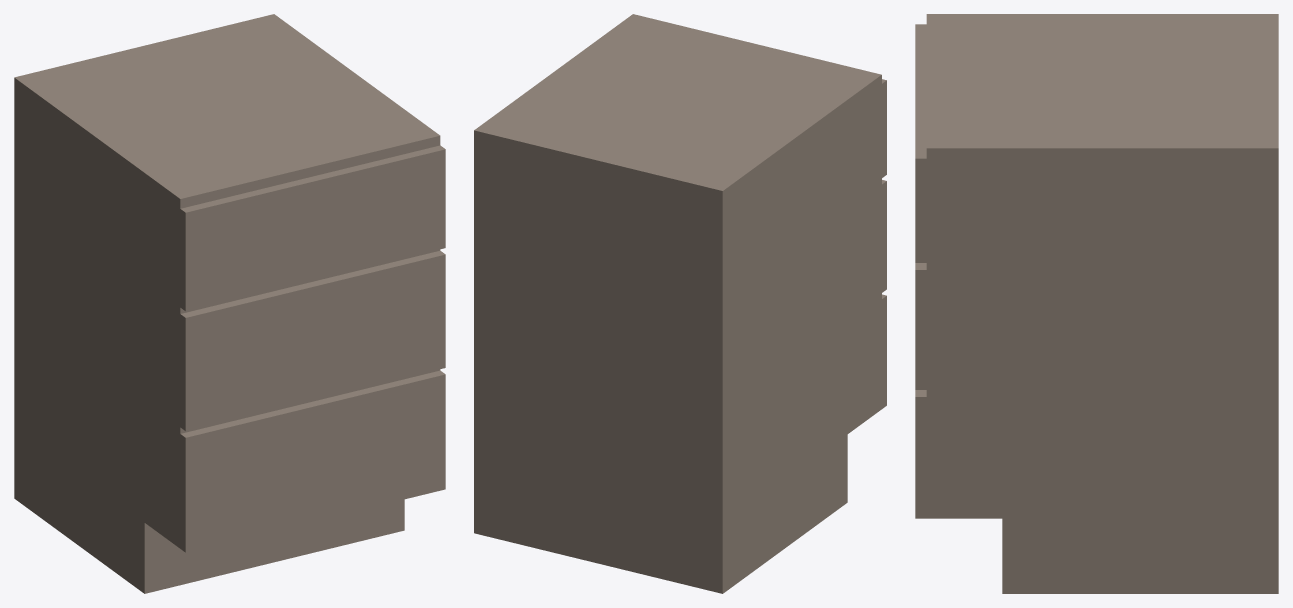
Rendered from Universal-Design-Base-Cabinet-Three-Drawer-24-Deep_std_001_W21i.glb.
3 renders of one model, left to right at view 1: azimuth 30°, elevation 25°; view 2: azimuth 150°, elevation 25°; view 3: azimuth 270°, elevation 25°, orthographic. The views are drawn at different scales.
Visible parts, largest first — view 1: Universal-Design-Base-Cabinet-Three-Drawer-24-Deep.std.001_W; view 2: Universal-Design-Base-Cabinet-Three-Drawer-24-Deep.std.001_W; view 3: Universal-Design-Base-Cabinet-Three-Drawer-24-Deep.std.001_W.
Part boxes in pixels (x1,y1,x2,y2): Universal-Design-Base-Cabinet-Three-Drawer-24-Deep.std.001_W: (14, 14, 445, 593); Universal-Design-Base-Cabinet-Three-Drawer-24-Deep.std.001_W: (474, 14, 886, 593); Universal-Design-Base-Cabinet-Three-Drawer-24-Deep.std.001_W: (915, 14, 1278, 593).
Size of the model in its own units: 0.5334 by 0.8255 by 0.6096.
